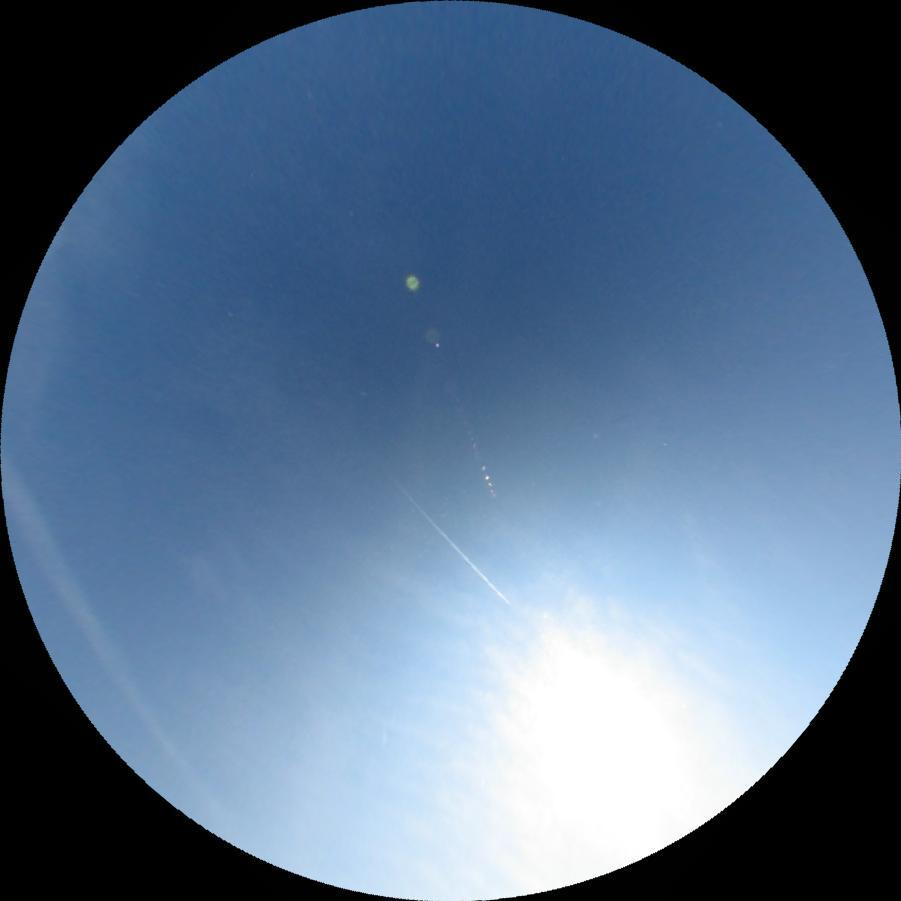contrail veryold: (0, 456, 214, 815)
contrail young: (381, 466, 512, 607), (381, 720, 387, 745)
sun: (488, 643, 748, 901)
